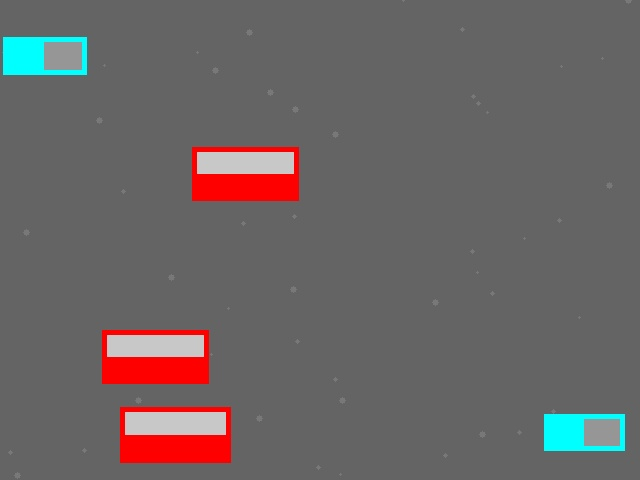car: (120, 407, 230, 462), (102, 330, 208, 383), (192, 147, 298, 200)
truck: (3, 37, 86, 74), (544, 414, 624, 450)
